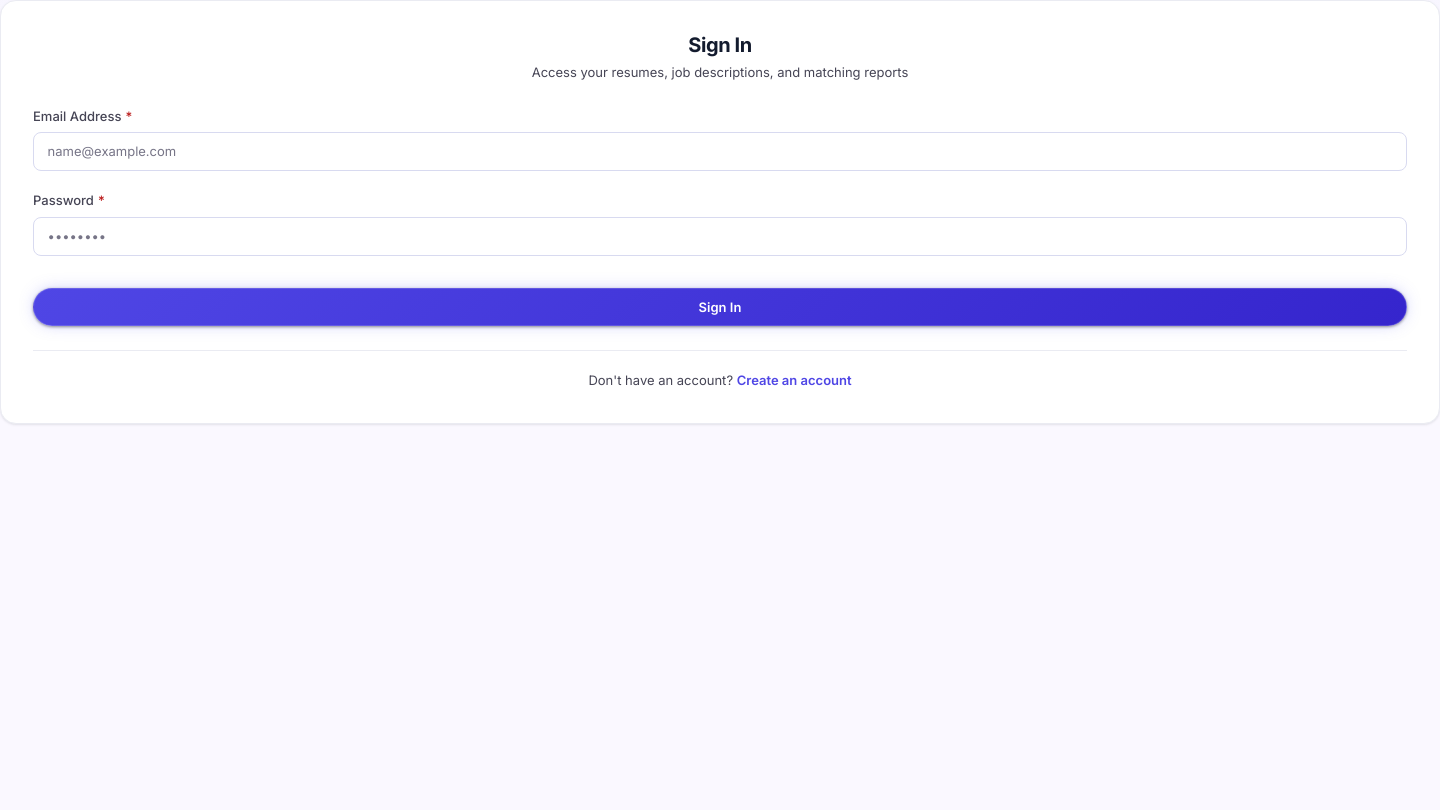
it: Authentication & Route Protection Suite › 3. Failed login: displays server error alert gracefully
Type "wrong@example.com" into the field labelled "Email Address*".
click(720, 152); type("wrong@example.com")  # box [33,132,1407,171]
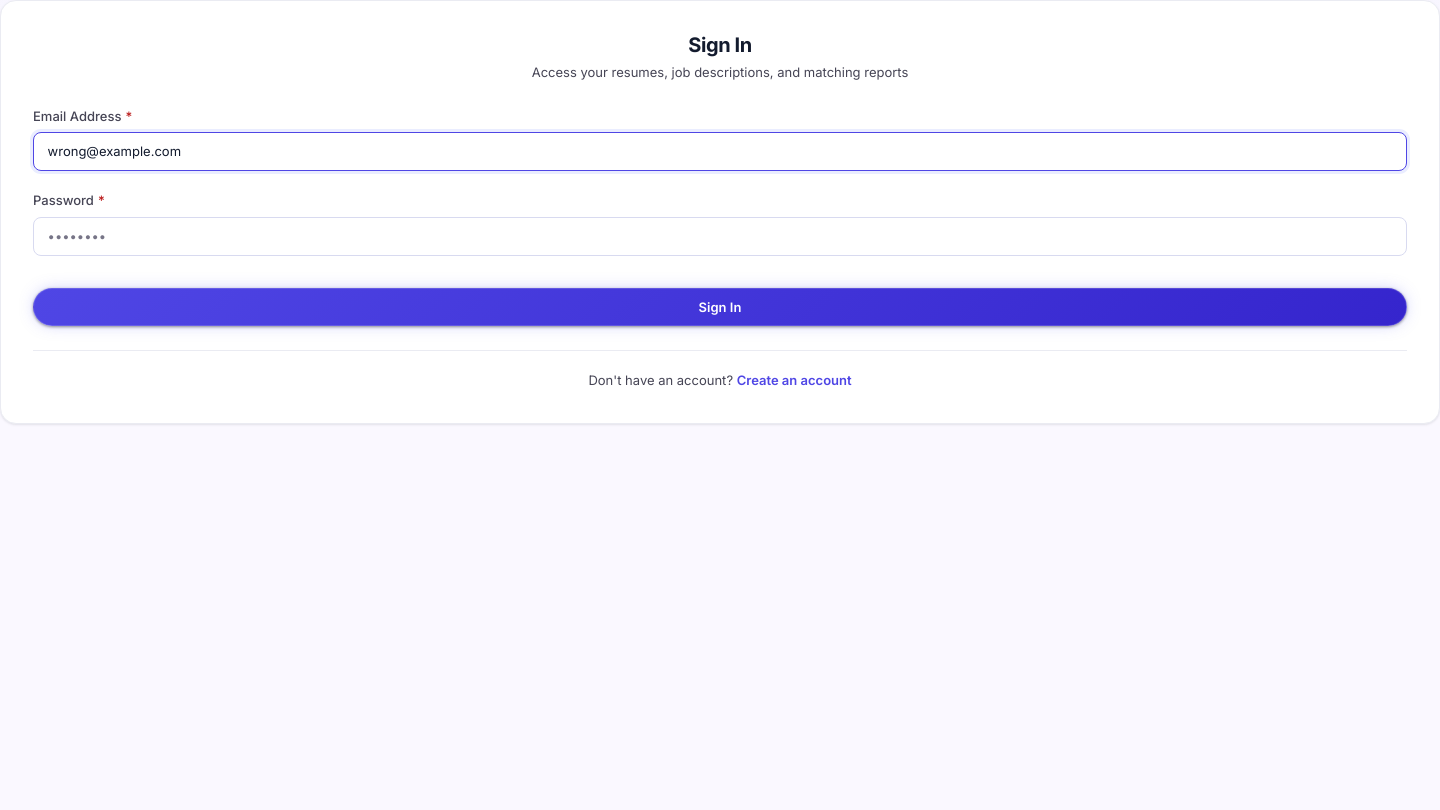
Type "wrongpass" into the password field labelled "Password*".
click(720, 236); type("wrongpass")  # box [33,217,1407,256]
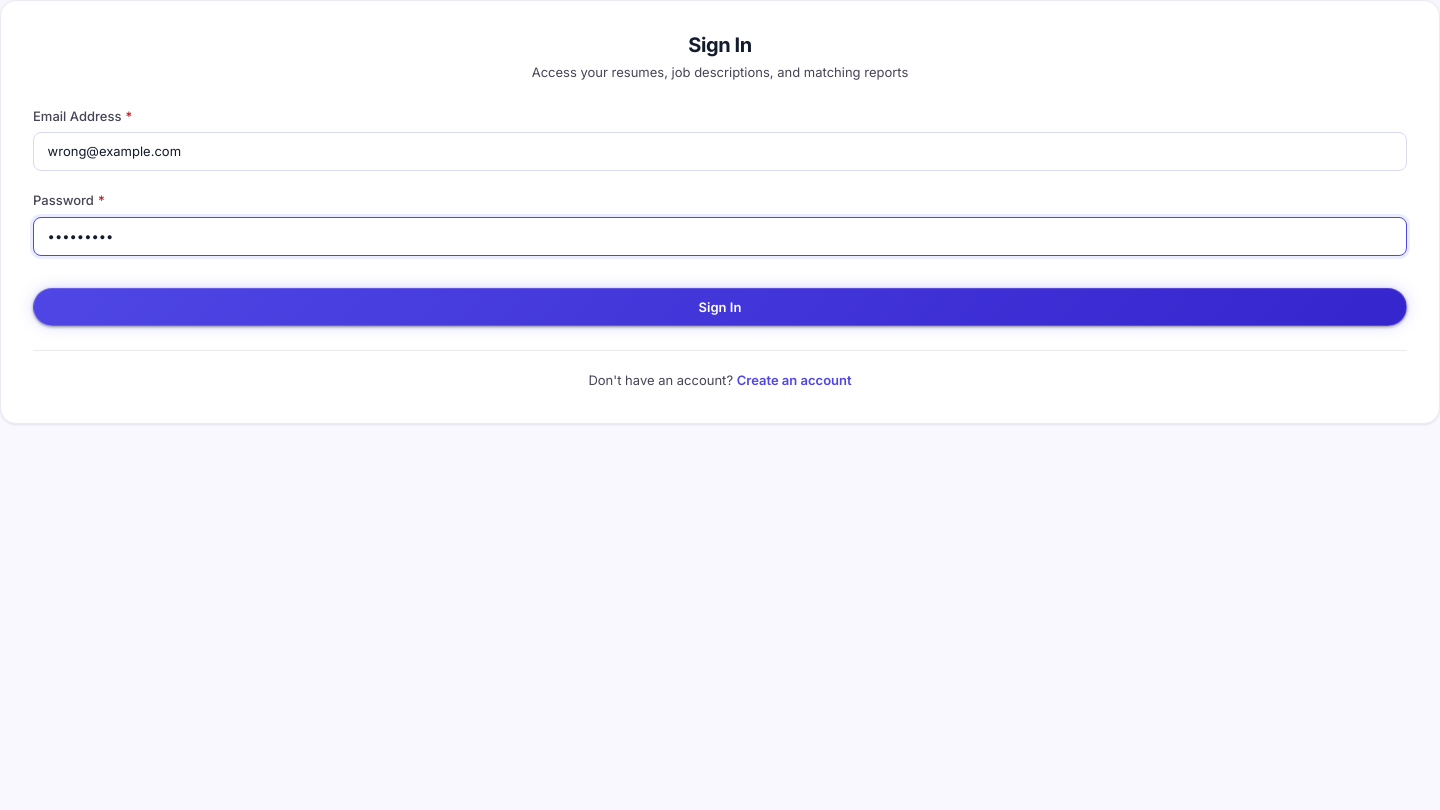
Click the button with test id "login-submit-btn".
click(720, 307)  # box [33,288,1407,326]
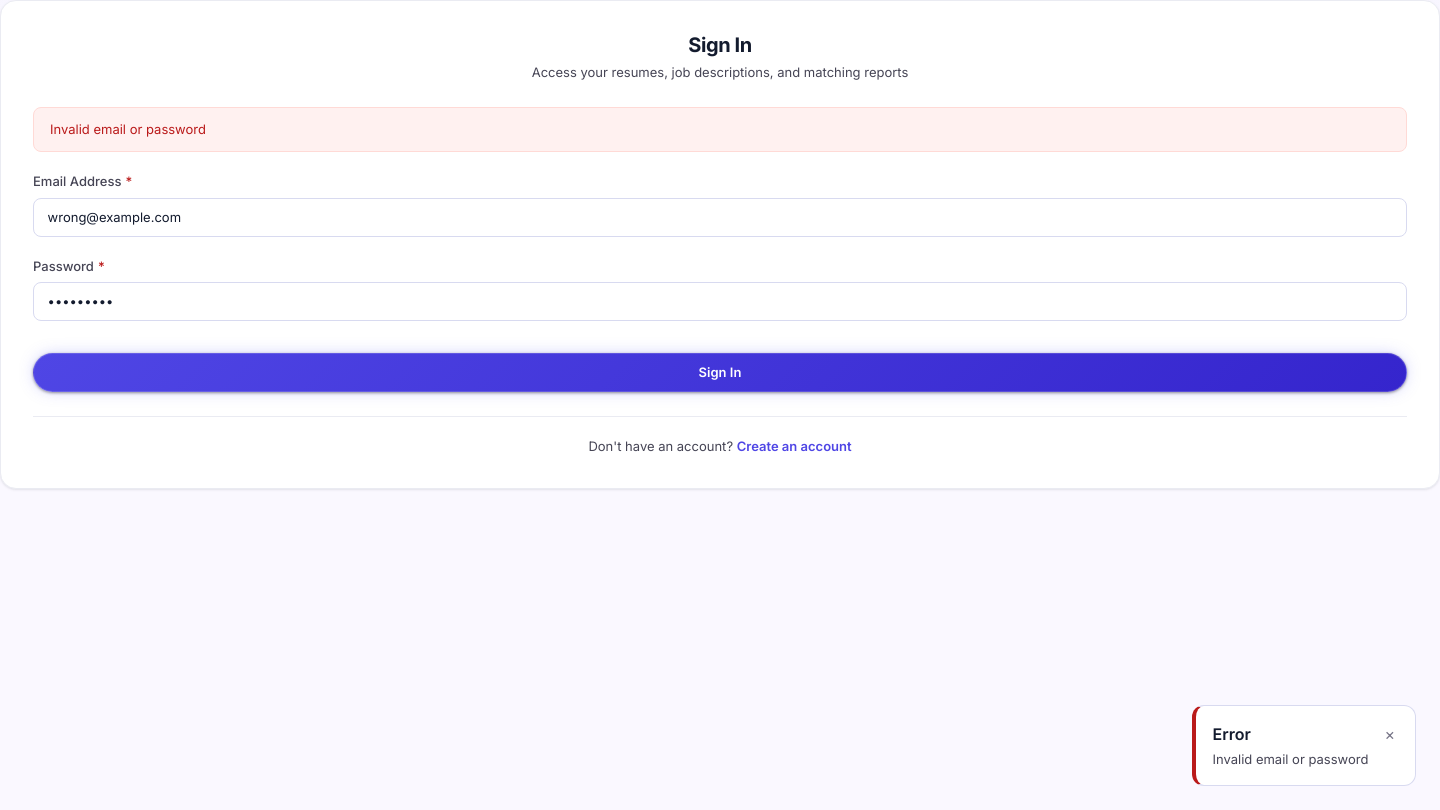
Expected: the message with test id "login-error-alert" reads "Invalid email or password", [50,121,206,137]
